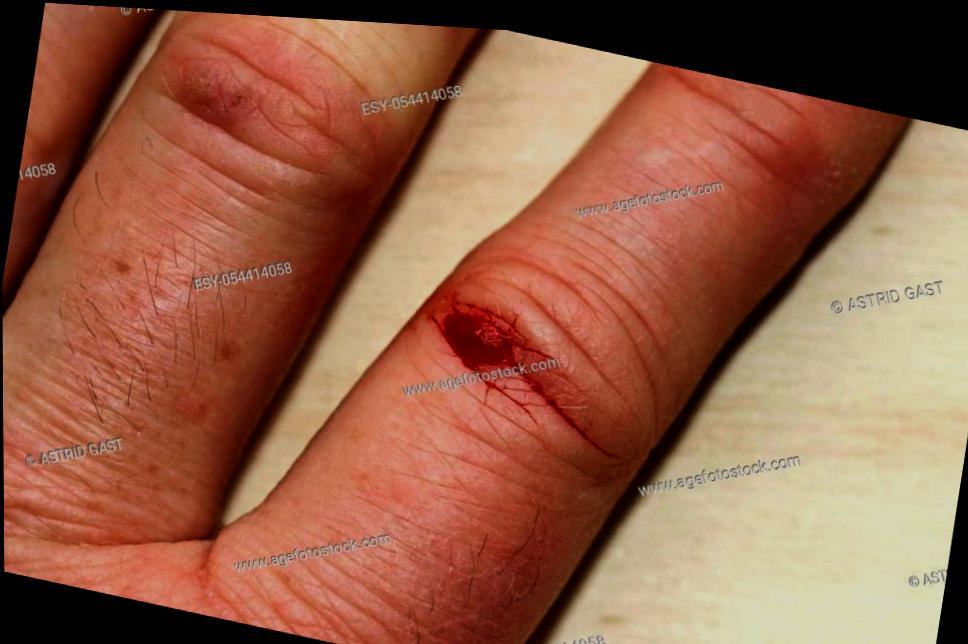Fire: (430, 294, 588, 430)
